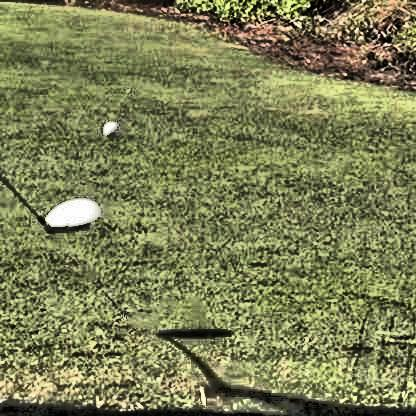golfball: (99, 117, 117, 137)
